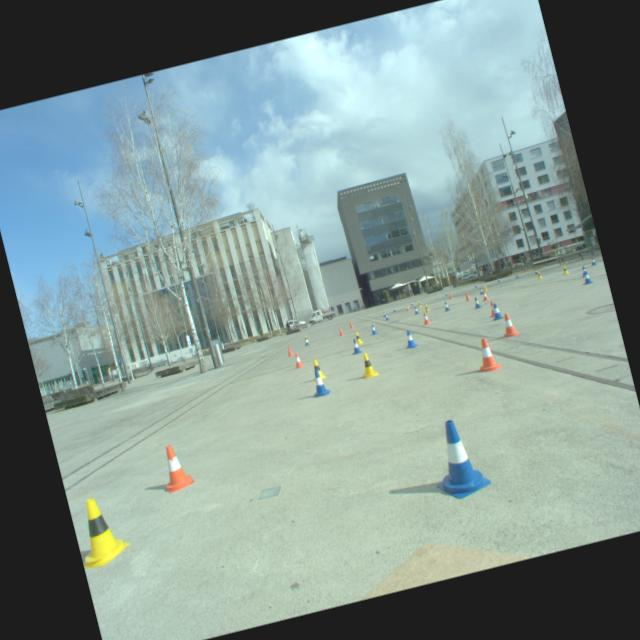blue_cone: (422, 414, 493, 504), (306, 366, 331, 398), (401, 328, 418, 349), (488, 300, 504, 320), (349, 337, 362, 354), (580, 269, 593, 285), (579, 264, 589, 278), (368, 323, 378, 335), (472, 296, 482, 308), (442, 300, 450, 312), (302, 336, 310, 346), (589, 256, 597, 266), (412, 306, 420, 314), (478, 286, 484, 294), (384, 313, 389, 320), (409, 300, 414, 306), (382, 311, 386, 317), (392, 306, 396, 312), (514, 272, 518, 278), (534, 268, 538, 274), (497, 276, 500, 282), (444, 292, 448, 296), (474, 282, 476, 288)
orange_cone: (155, 441, 196, 494), (470, 334, 502, 374), (498, 310, 520, 338), (486, 300, 499, 318), (292, 352, 304, 368), (420, 312, 430, 324), (480, 290, 489, 301), (286, 346, 294, 356), (464, 291, 471, 301), (338, 327, 344, 336), (348, 321, 354, 328), (405, 304, 410, 311), (448, 292, 452, 300)
yellow_cone: (68, 491, 134, 570), (356, 350, 380, 379), (308, 357, 328, 382), (353, 330, 363, 344), (561, 264, 569, 274), (422, 303, 430, 312), (536, 270, 542, 279), (303, 334, 309, 342), (482, 284, 488, 292), (416, 300, 422, 307), (348, 320, 353, 328)
